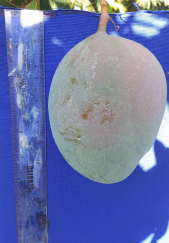Mango-sano: (48, 29, 166, 183)
